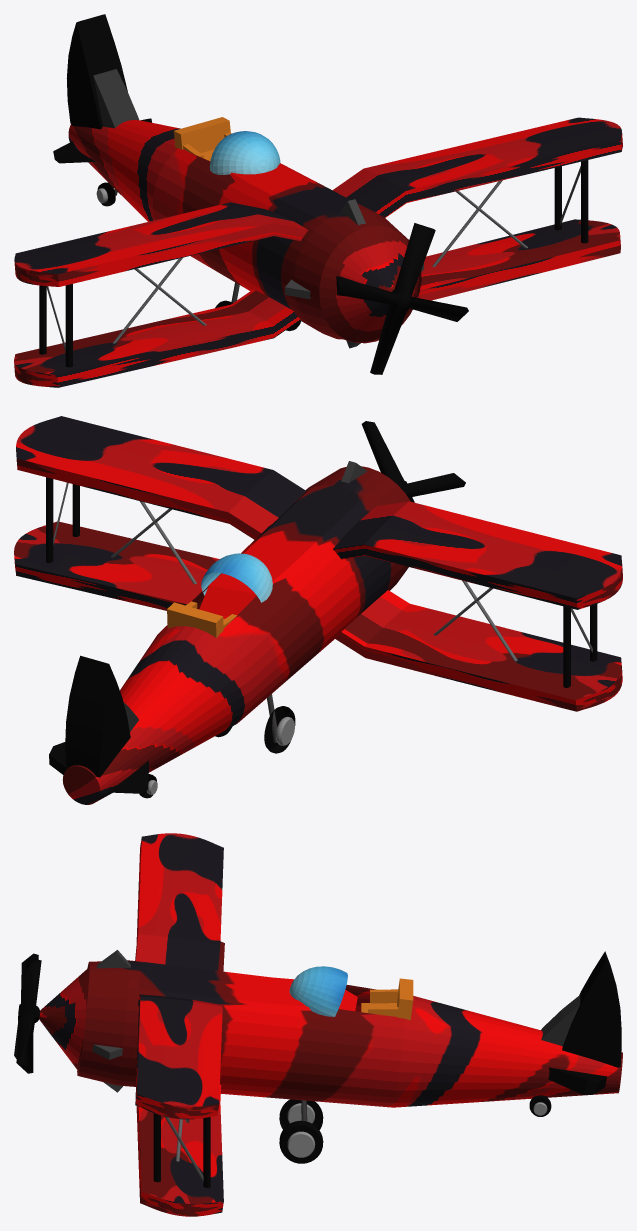
File: Toy_Airplane_V2.0.glb
3 views of the same model, one above another, from view 1: azimuth 30°, elevation 25°; view 2: azimuth 150°, elevation 25°; view 3: azimuth 270°, elevation 25° (orthographic). The views are drawn at different scales.
Visible parts, largest first — view 1: Cube.002; view 2: Cube.002; view 3: Cube.002.
Part boxes in pixels (x1,y1,x2,y2): Cube.002: (14,14,622,387); Cube.002: (14,416,622,804); Cube.002: (14,833,622,1216).
Bounding box in the file's own units: 11.63 × 4 × 10.98.
Materials: 27 (2 with a texture image).
